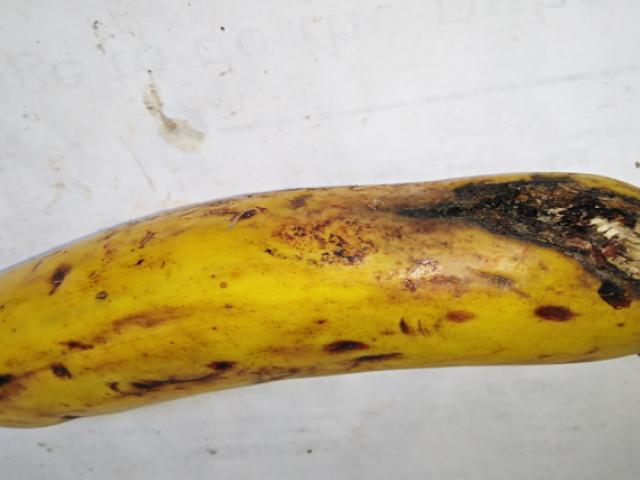ripe: (0, 140, 639, 444)
rotten: (377, 140, 639, 297)
